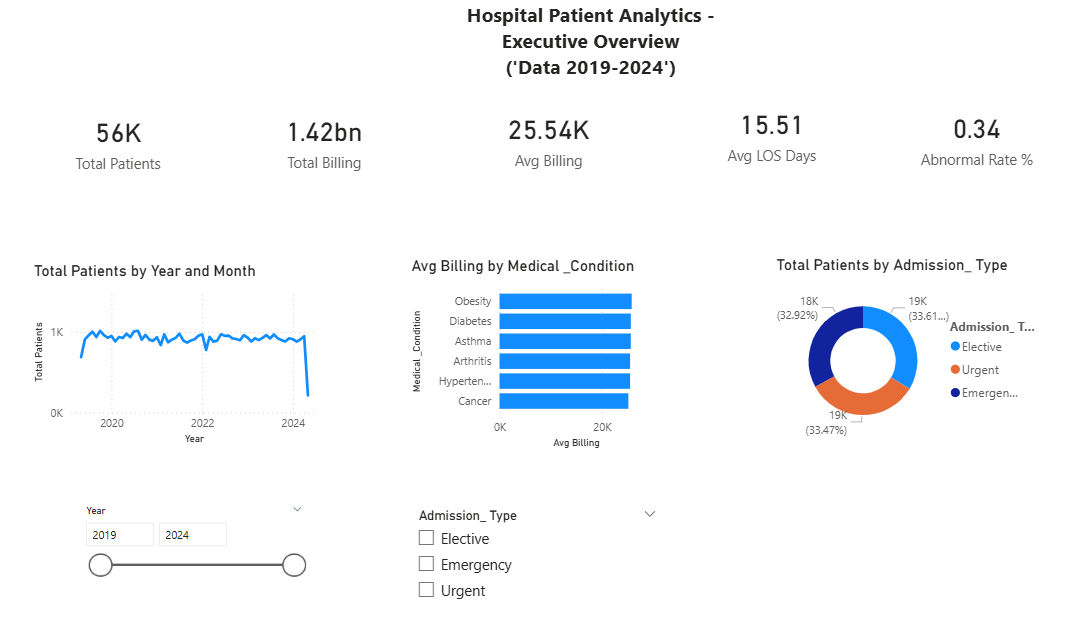

The dashboard page shown, as its layout file describes it:
{"tool":"powerbi","page":{"name":"Overview","canvas":[1280,720],"ordinal":0},"visuals":[{"type":"card","fields":{"Values":["Patientdata.Total Patients"]},"box":[34.3,91.9,219.6,161.9],"z":0},{"type":"card","fields":{"Values":["Patientdata.Total Billing"]},"box":[253.9,90.6,233.3,161.9],"z":1},{"type":"card","fields":{"Values":["Patientdata.Avg Billing"]},"box":[503.6,85.1,226.4,167.4],"z":2},{"type":"card","fields":{"Values":["Patientdata.Avg LOS Days"]},"box":[746.5,91.9,230.5,142.7],"z":3},{"type":"card","fields":{"Values":["Patientdata.Abnormal Rate %"]},"box":[977,91.9,219.6,152.3],"z":4},{"type":"lineChart","fields":{"Y":["Patientdata.Total Patients"],"Category":["Patientdata.Admission_Month.Variation.Date Hierarchy.Year","Patientdata.Admission_Month.Variation.Date Hierarchy.Month"]},"box":[46.7,304.6,323.8,205.8],"z":5},{"type":"barChart","fields":{"Category":["Patientdata.Medical _Condition"],"Y":["Patientdata.Avg Billing"]},"box":[461.1,299.1,285.4,215.4],"z":6},{"type":"donutChart","fields":{"Category":["Patientdata.Admission_ Type"],"Y":["Patientdata.Total Patients"]},"box":[861.8,297.8,299.1,212.7],"z":7},{"type":"slicer","fields":{"Values":["Date_Table.Year"]},"box":[96.1,566.7,262.1,127.6],"z":8},{"type":"slicer","fields":{"Values":["Patientdata.Admission_ Type"]},"box":[461.1,569.5,285.4,122.1],"z":9},{"type":"textbox","box":[513.2,13.7,299.1,100.2],"z":10}]}

Visuals, with their boxes on the page's 1280x720 design canvas (x1, y1, x2, y2). These are canvas units, not pixel positions in the 1072x630 screenshot, which may show the page scaled, cropped or inside an application window:
card - Patientdata.Total Patients: <bbox>34, 92, 254, 254</bbox>
card - Patientdata.Total Billing: <bbox>254, 91, 487, 252</bbox>
card - Patientdata.Avg Billing: <bbox>504, 85, 730, 252</bbox>
card - Patientdata.Avg LOS Days: <bbox>746, 92, 977, 235</bbox>
card - Patientdata.Abnormal Rate %: <bbox>977, 92, 1197, 244</bbox>
lineChart - Patientdata.Total Patients x Patientdata.Admission_Month.Variation.Date Hierarchy.Year: <bbox>47, 305, 370, 510</bbox>
barChart - Patientdata.Medical _Condition x Patientdata.Avg Billing: <bbox>461, 299, 746, 514</bbox>
donutChart - Patientdata.Admission_ Type x Patientdata.Total Patients: <bbox>862, 298, 1161, 510</bbox>
slicer - Date_Table.Year: <bbox>96, 567, 358, 694</bbox>
slicer - Patientdata.Admission_ Type: <bbox>461, 570, 746, 692</bbox>
textbox: <bbox>513, 14, 812, 114</bbox>
